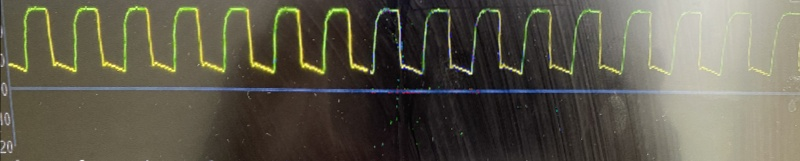normal_pressure: (4, 0, 766, 86)
